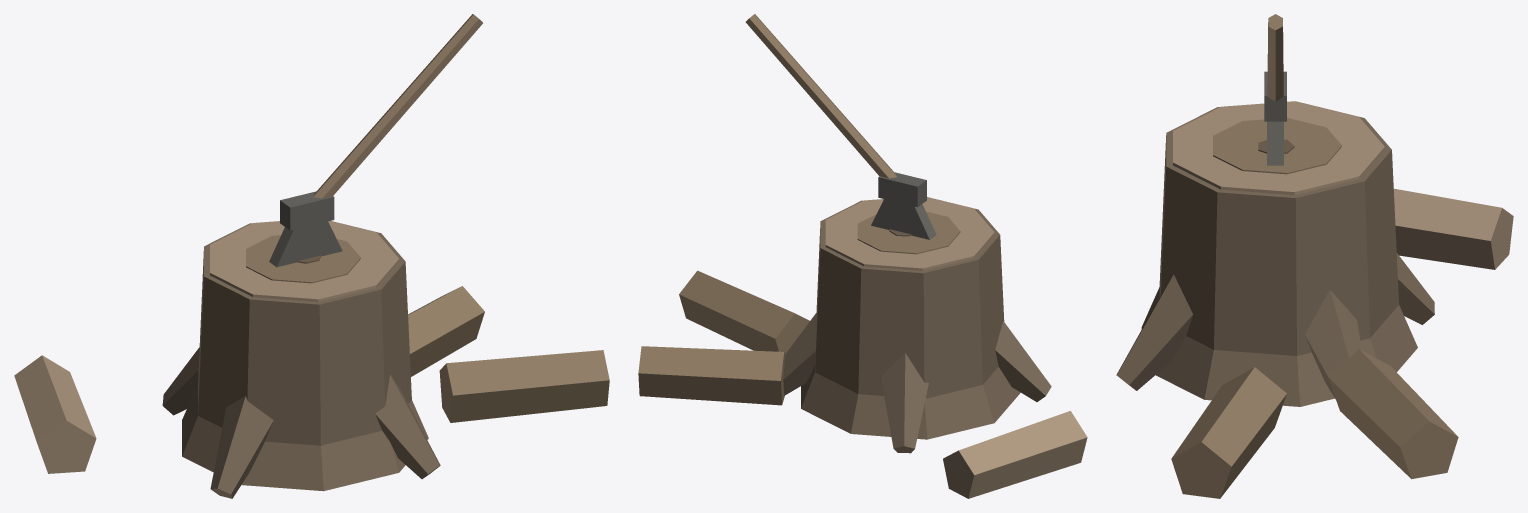
Rendered from firewood_3.glb.
3 renders of one model, left to right at view 1: azimuth 30°, elevation 25°; view 2: azimuth 150°, elevation 25°; view 3: azimuth 270°, elevation 25°, orthographic. The views are drawn at different scales.
Visible parts, largest first — view 1: Firewood_3; view 2: Firewood_3; view 3: Firewood_3.
Part boxes in pixels (x1,y1,x2,y2): Firewood_3: (14, 14, 609, 498); Firewood_3: (638, 14, 1087, 498); Firewood_3: (1116, 14, 1513, 498).
Size of the model in its own units: 1.39 by 1.01 by 0.8366.
